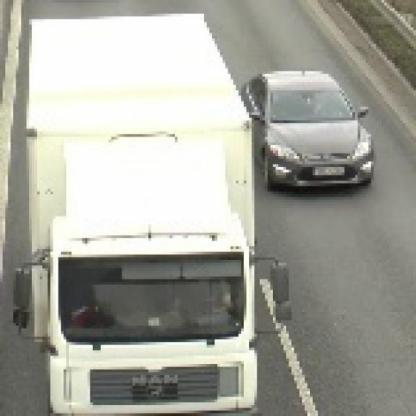truck: (33, 9, 295, 414)
